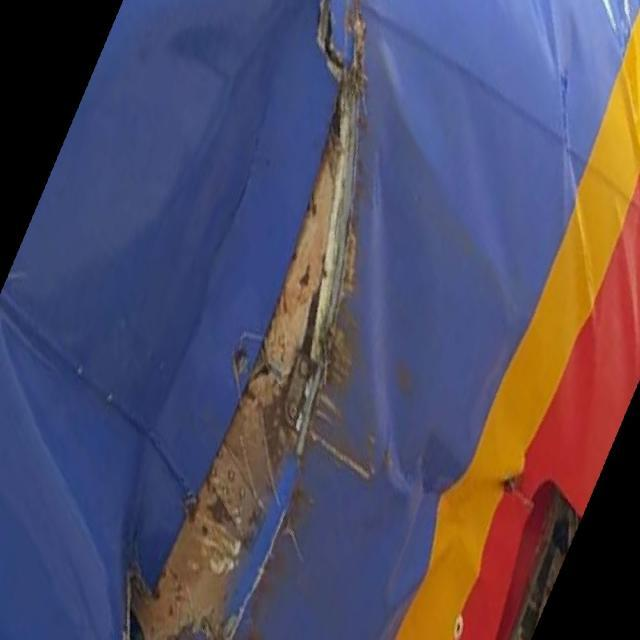crack: (125, 3, 379, 639)
